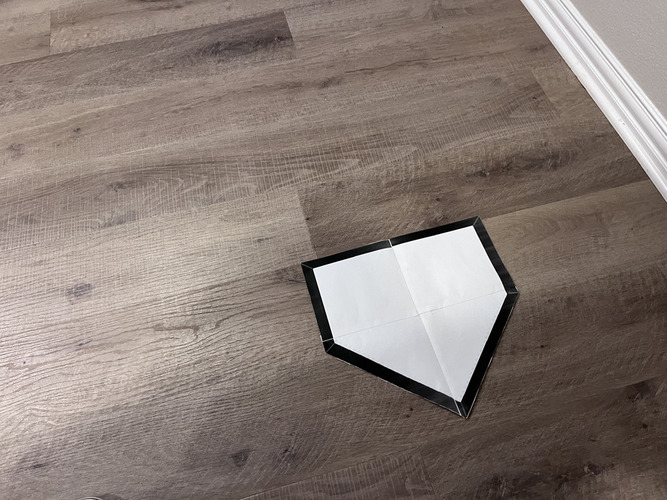homeplate: (301, 215, 519, 421)
